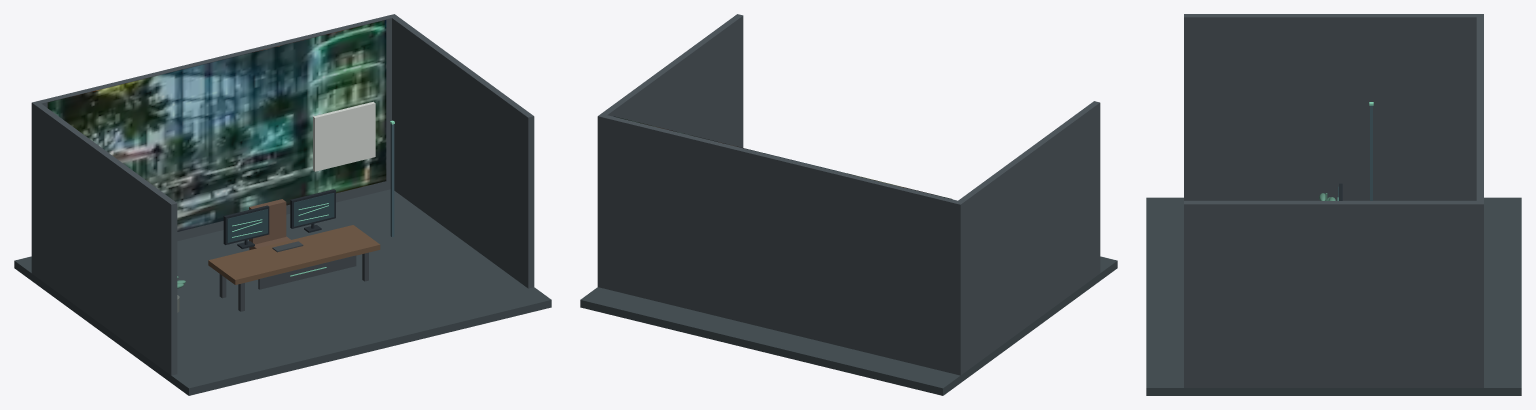
File: growth.glb
3 views of the same model, side by side, from view 1: azimuth 30°, elevation 25°; view 2: azimuth 150°, elevation 25°; view 3: azimuth 270°, elevation 25° (orthographic). The views are drawn at different scales.
Parts seen in each view (by area): view 1: Room floor slab.001, Room cinematic backplate.001, Room left wall.001, Room right wall.001, Executive desk top.001, Room rear wall.001, Idea board, Desk front fascia.001, Abstract market display, Abstract market display.003, Chair back, Glass partition.001 (+1 smaller); view 2: Room rear wall.001, Room left wall.001, Room floor slab.001, Room right wall.001; view 3: Room right wall.001, Room left wall.001, Room floor slab.001, Room rear wall.001.
Boxes of the visible parts, box(x1,y1,x2,y2) form: Room floor slab.001: box(14, 189, 551, 395); Room cinematic backplate.001: box(47, 20, 386, 231); Room left wall.001: box(31, 102, 177, 375); Room right wall.001: box(392, 16, 534, 288); Executive desk top.001: box(208, 225, 380, 284); Room rear wall.001: box(33, 14, 397, 240); Idea board: box(313, 101, 375, 171); Desk front fascia.001: box(258, 255, 356, 289); Abstract market display: box(294, 193, 334, 226); Abstract market display.003: box(227, 209, 267, 242); Chair back: box(249, 199, 286, 244); Glass partition.001: box(390, 124, 394, 237); Room rear wall.001: box(597, 114, 963, 375); Room left wall.001: box(954, 101, 1100, 374); Room floor slab.001: box(580, 256, 1117, 395); Room right wall.001: box(598, 14, 743, 147); Room right wall.001: box(1184, 201, 1483, 387); Room left wall.001: box(1184, 14, 1483, 200); Room floor slab.001: box(1146, 197, 1521, 395); Room rear wall.001: box(1476, 14, 1483, 387).
Bounding box in the file's own units: 12 × 5.64 × 10.
Materials: 14 (1 with a texture image).
